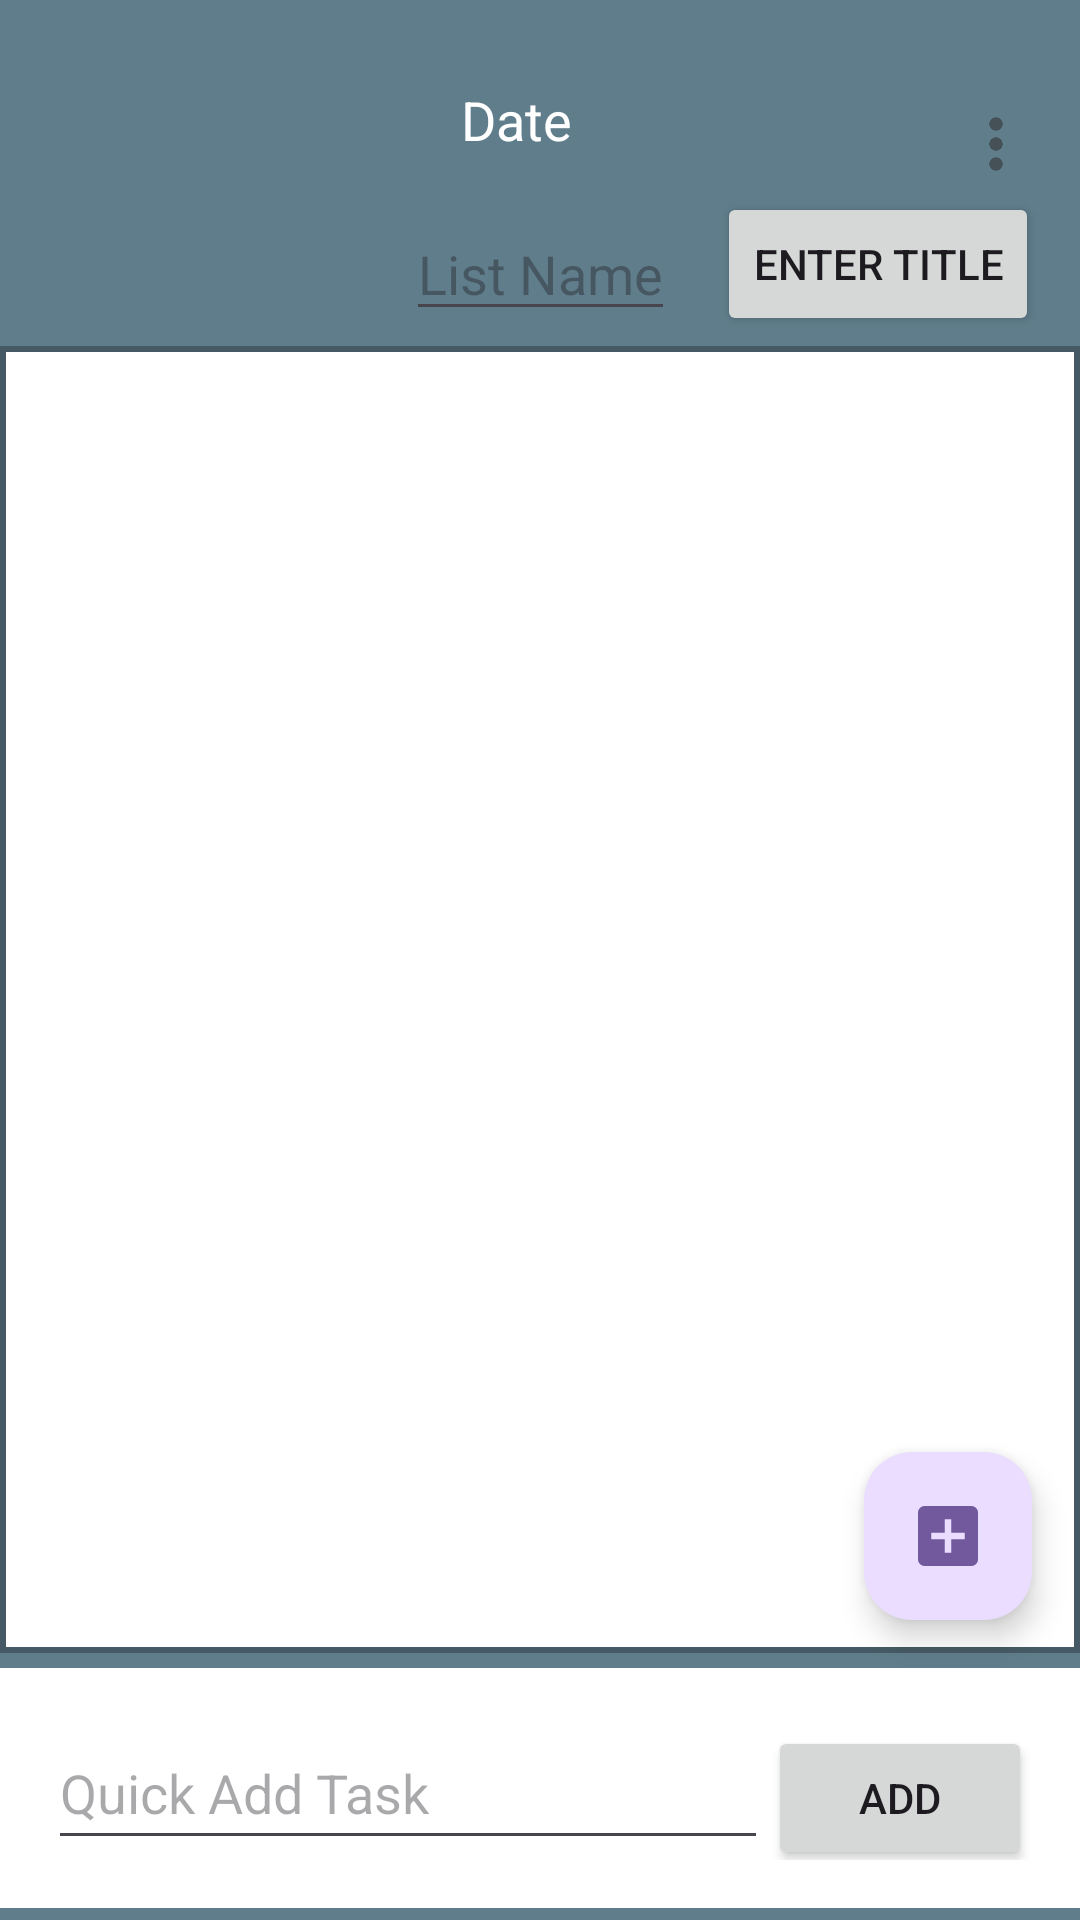

Icon bounding boxes for this 1080 × 1920 phone screenshot, format (x1, y1, x2, y2):
Click to add task: (864, 1452, 1032, 1620)
